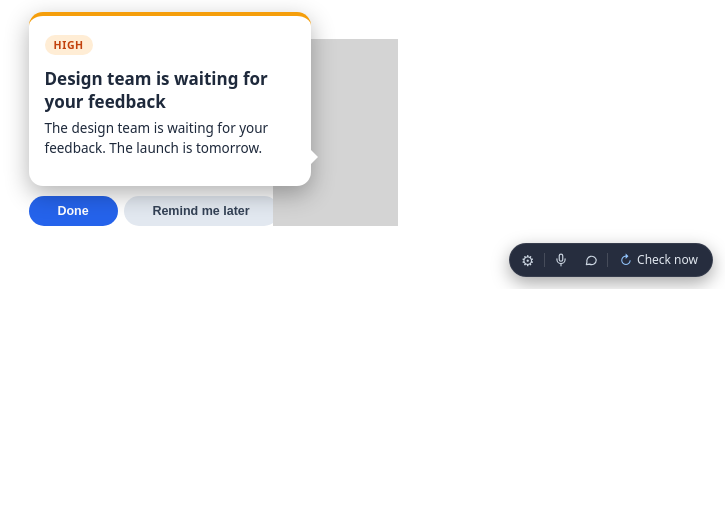
Test case: desktop overlay › chat with Zara (ADR-006 M2) › labels a reply from the Groq backup
Expected: the element with test id "intervention-card" is shown, [28,12,398,226]
Click the button named "Chat with Zara": (591,260) [577,247,605,273]
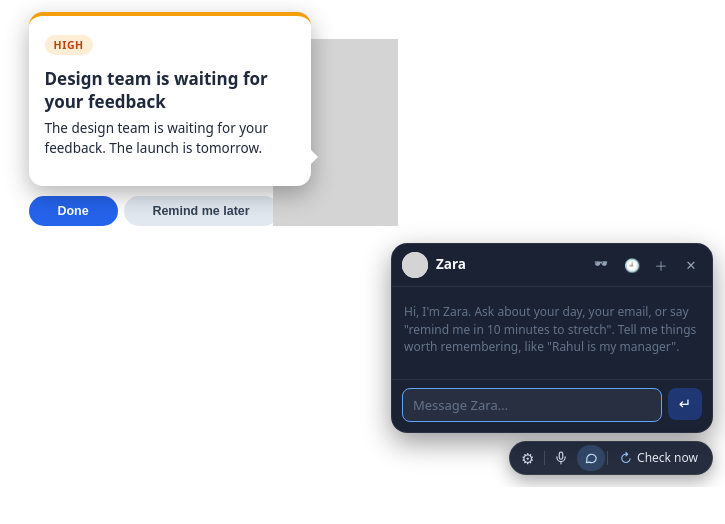
In the field labelled "Message Zara": (532,405) [402,388,662,422], type "hi"
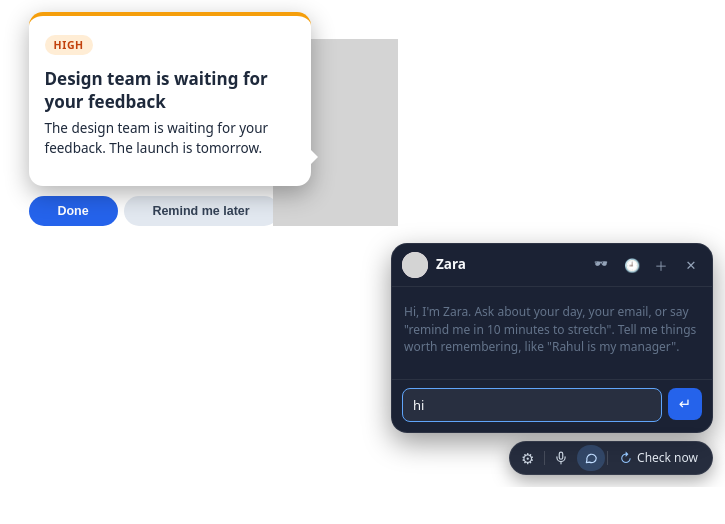
Press Enter in the field named "Message Zara", box [402,388,662,422]
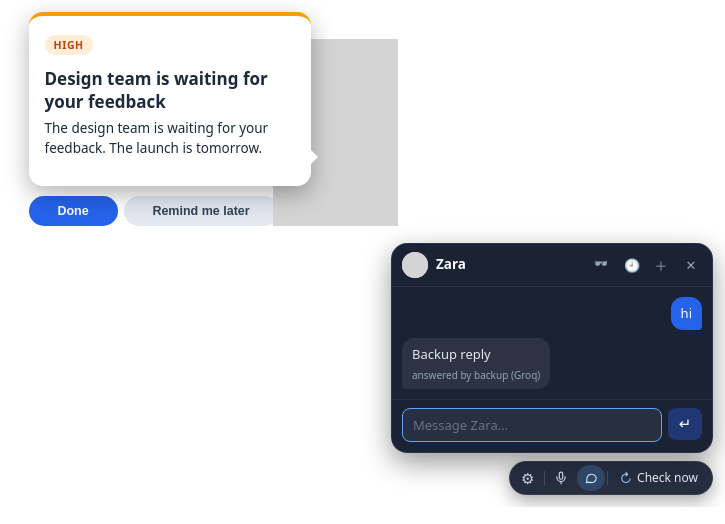
Result: the text "answered by backup (Groq)" is shown at [412,368,540,382]
